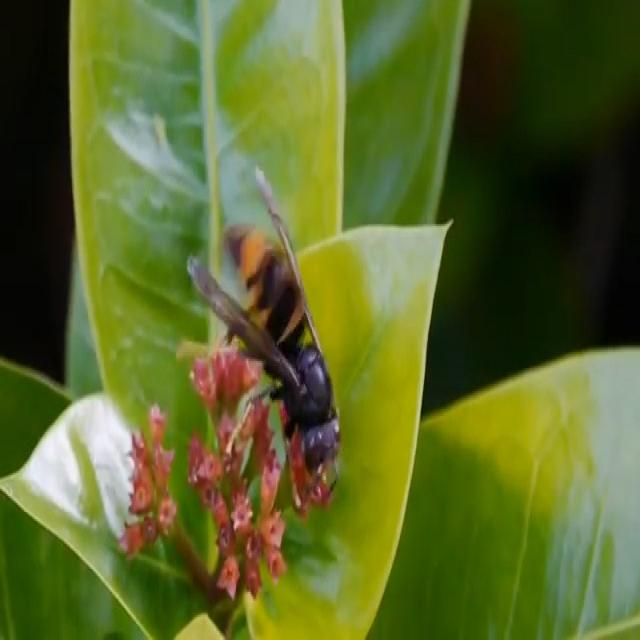Hornets: (186, 165, 342, 516)
